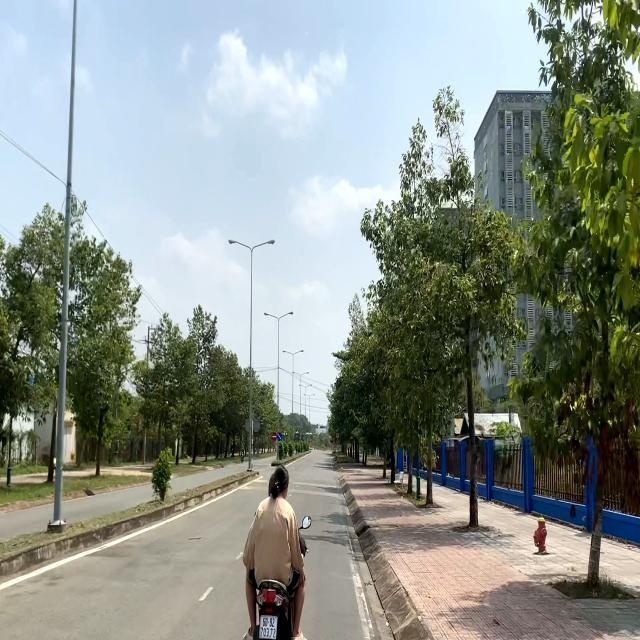bien_nguy_hiem: (277, 432, 282, 442), (272, 432, 277, 441)
